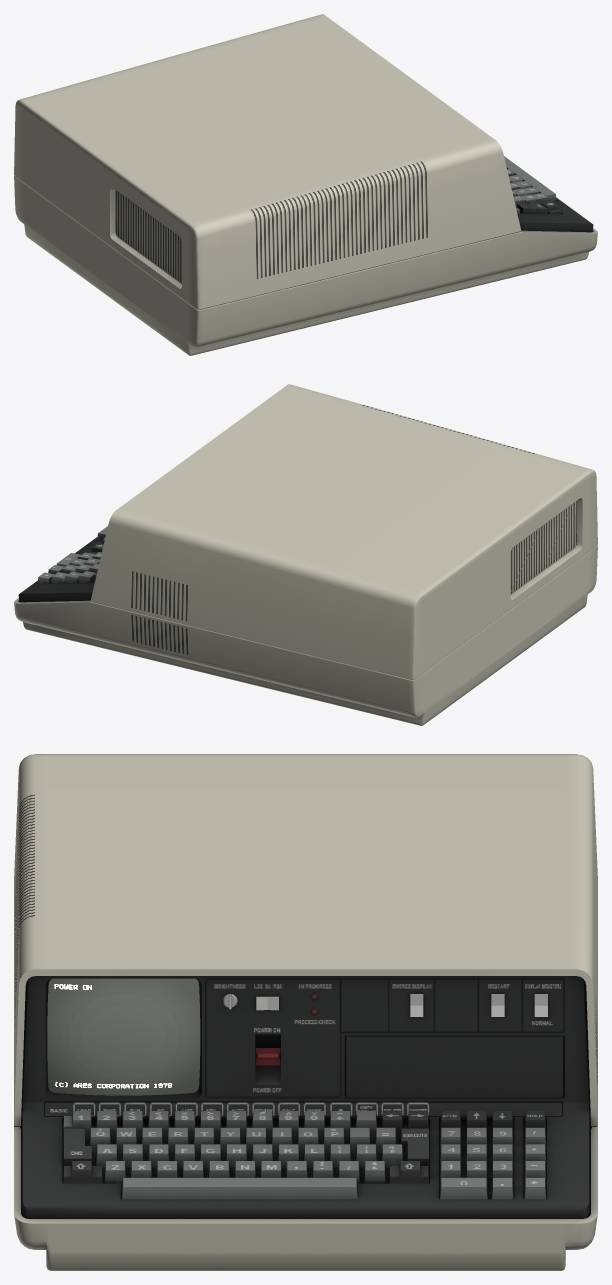
The model's file is ibm_5110.glb.
3 views of the same model, one above another, from view 1: azimuth 30°, elevation 25°; view 2: azimuth 150°, elevation 25°; view 3: azimuth 270°, elevation 25° (orthographic). The views are drawn at different scales.
Visible parts, largest first — view 1: ibm_5110; view 2: ibm_5110; view 3: ibm_5110.
Part boxes in pixels (box(x1,y1,x2,y2)): ibm_5110: box(14, 14, 597, 355); ibm_5110: box(14, 384, 597, 725); ibm_5110: box(14, 754, 597, 1270).
Size of the model in its own units: 32.91 by 11.32 by 26.14.
Materials: 2 (2 with a texture image).
